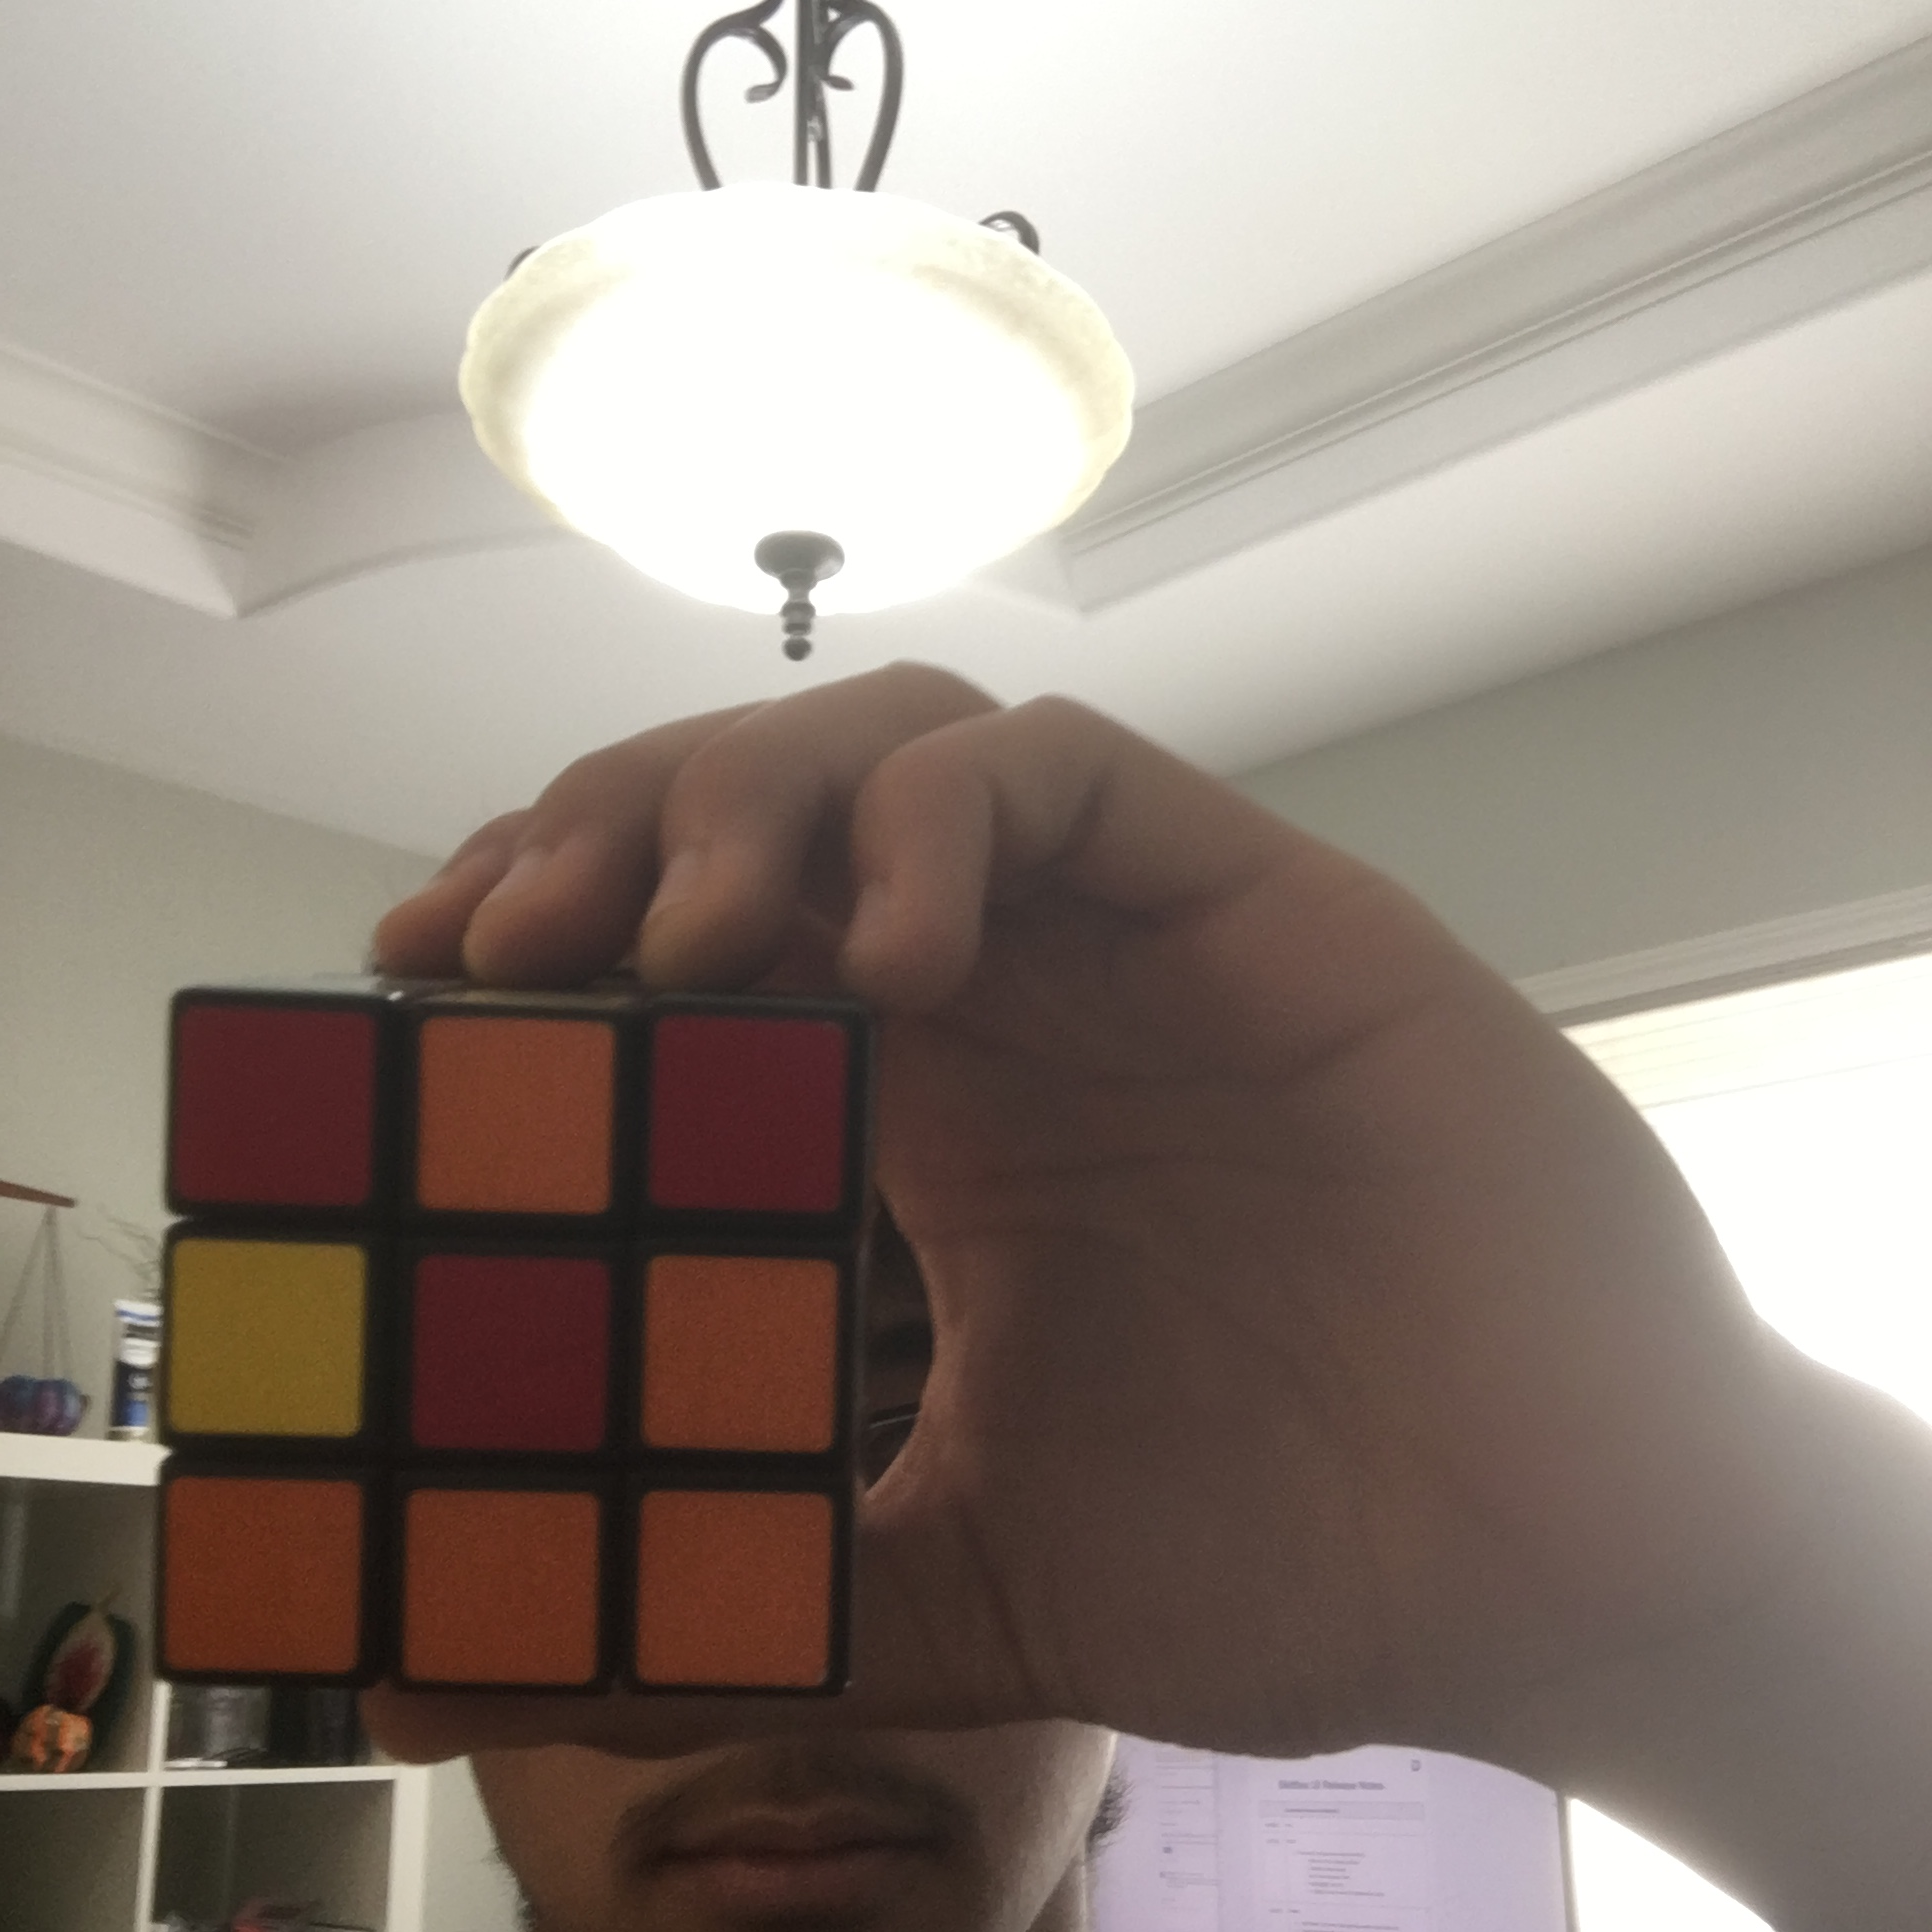face: (155, 987, 855, 1696)
